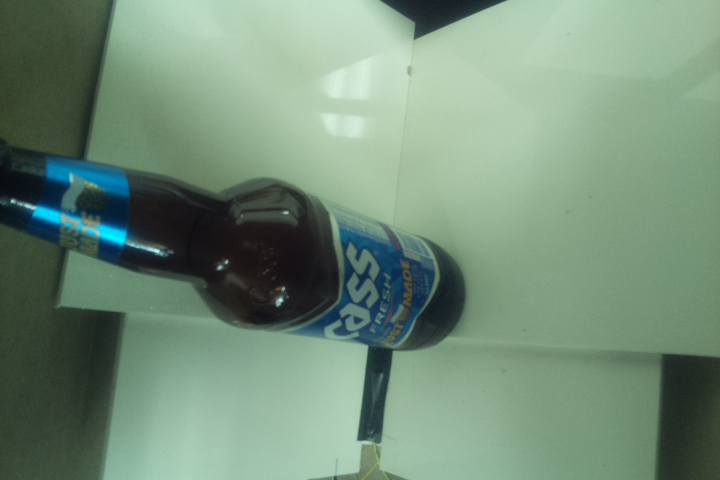makju: (1, 135, 466, 353)
